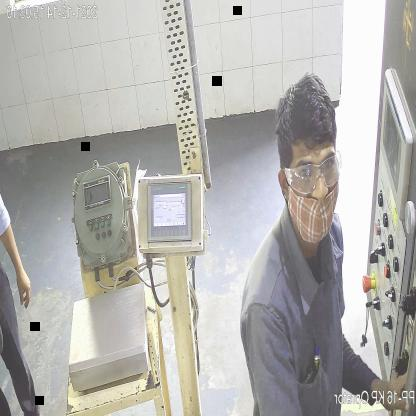goggles: (284, 152, 341, 197)
